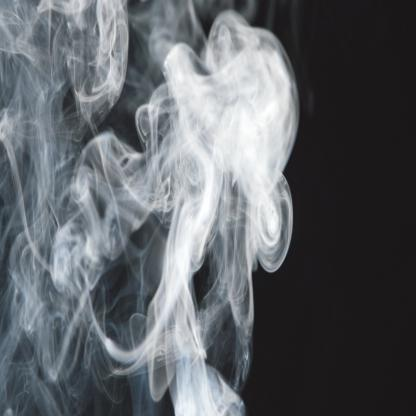smoke: (148, 10, 295, 416), (0, 0, 138, 415)
